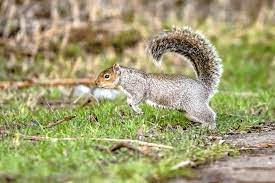squirrel: (94, 25, 223, 130)
